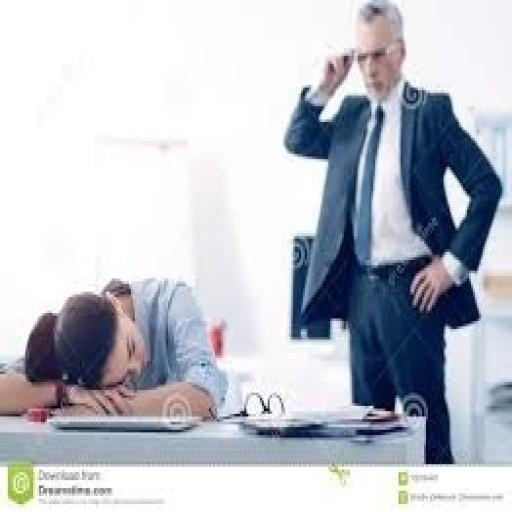sleeping: (282, 0, 504, 464), (0, 274, 229, 424)
